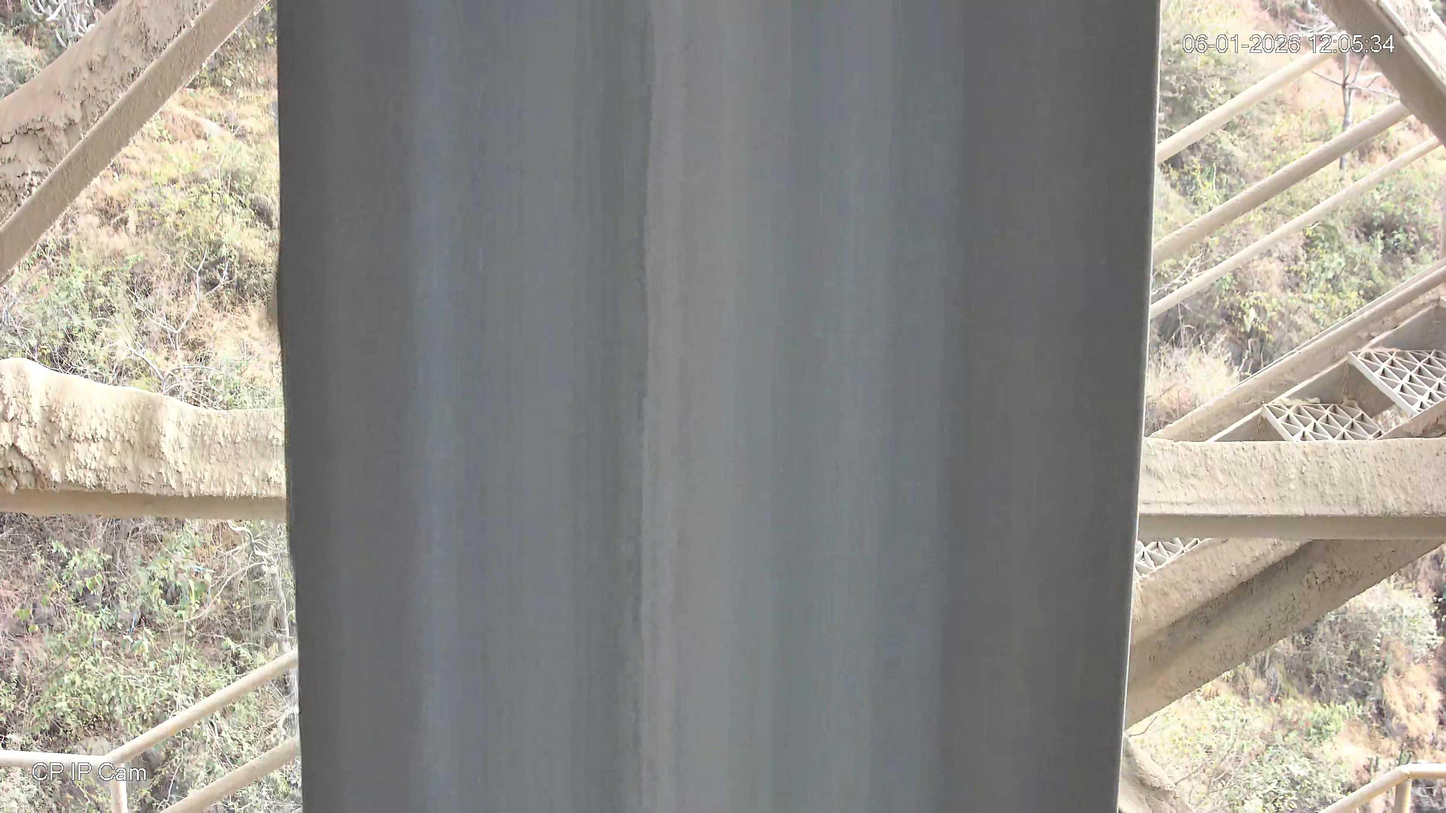belt_roi: (269, 2, 1164, 812)
